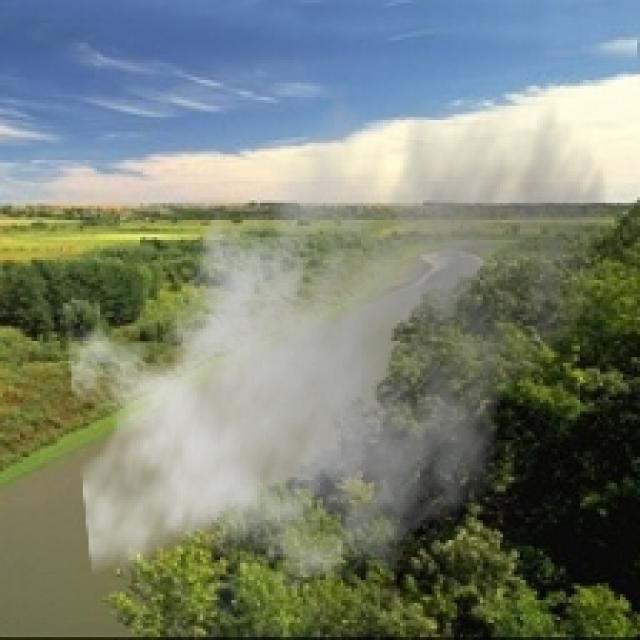smoke: (66, 51, 614, 612)
